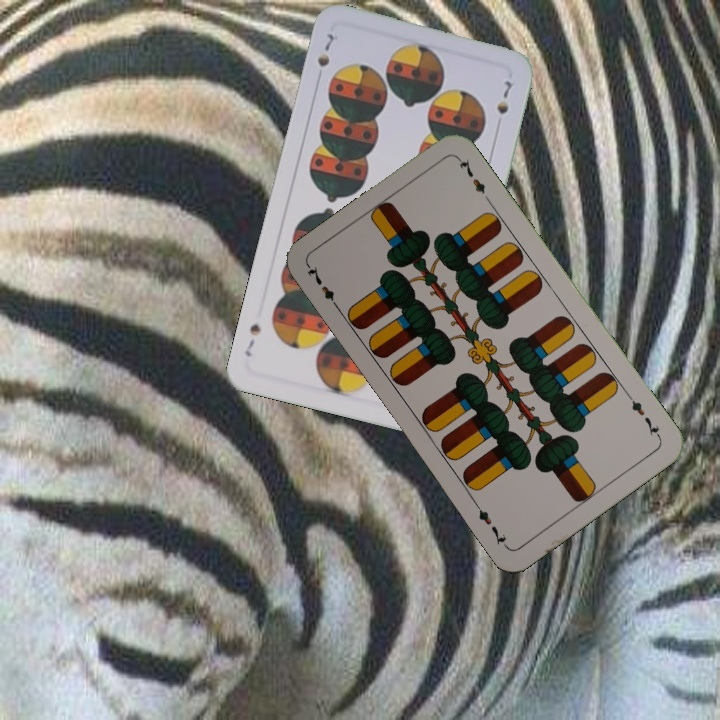E7: (623, 390, 664, 441), (303, 262, 343, 314)
S7: (313, 29, 337, 70)
